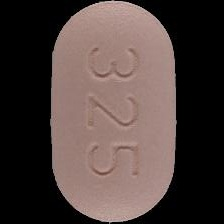43547-330: (0, 0, 224, 224)
